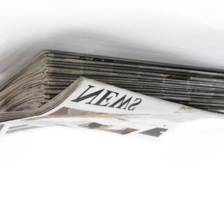news_paper: (0, 42, 224, 142), (0, 75, 224, 141)
